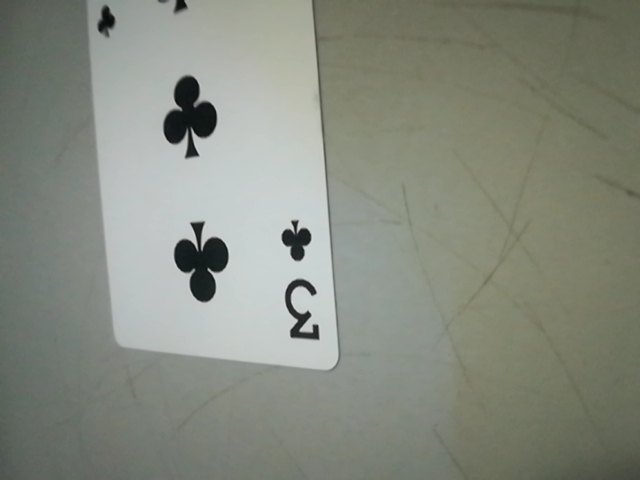mh 3: (272, 206, 333, 361)
